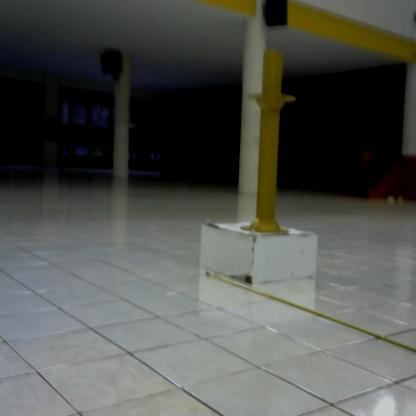pole: (240, 45, 306, 242)
